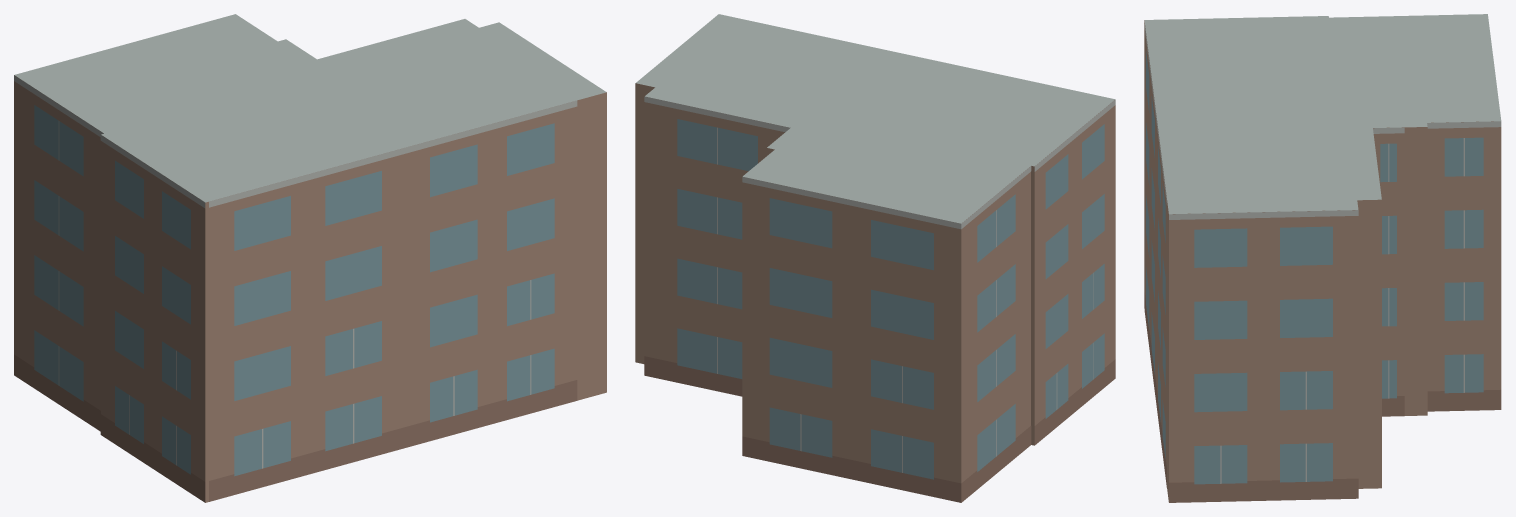
The model's file is survey-upis-32912777.glb.
The picture shows the model from 3 angles, left to right: view 1: azimuth 30°, elevation 25°; view 2: azimuth 150°, elevation 25°; view 3: azimuth 270°, elevation 25°; orthographic projection. The views are drawn at different scales.
Parts seen in each view (by area): view 1: survey-upis-32912777.tmp; view 2: survey-upis-32912777.tmp; view 3: survey-upis-32912777.tmp.
Boxes of the visible parts, left/top/right/bottom form: survey-upis-32912777.tmp: left=14, top=14, right=606, bottom=502; survey-upis-32912777.tmp: left=635, top=14, right=1115, bottom=502; survey-upis-32912777.tmp: left=1144, top=14, right=1501, bottom=502.
Size of the model in its own units: 17.86 by 12 by 13.45.
